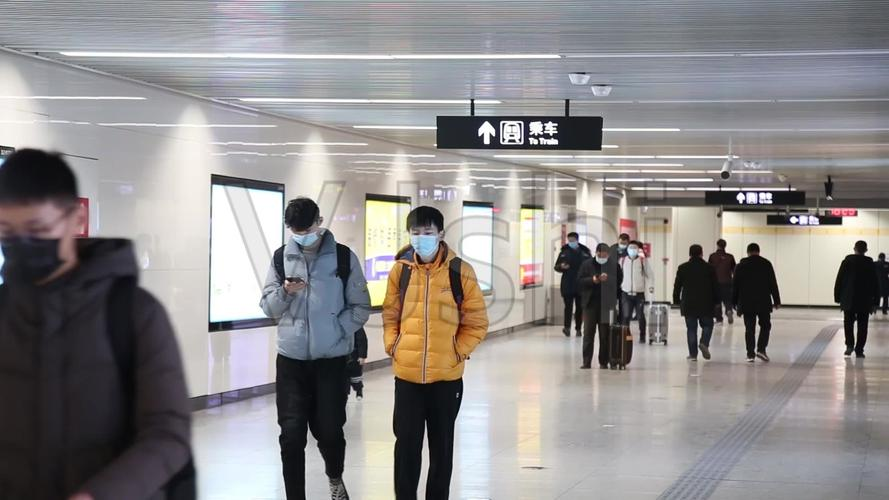mask: (407, 214, 441, 261), (288, 213, 319, 252)
